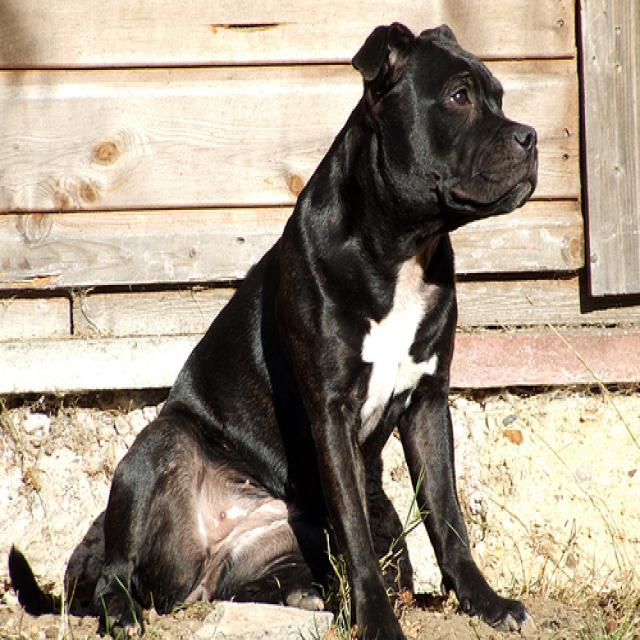dog-staffordshire_bull_terrier: (5, 17, 547, 637)
